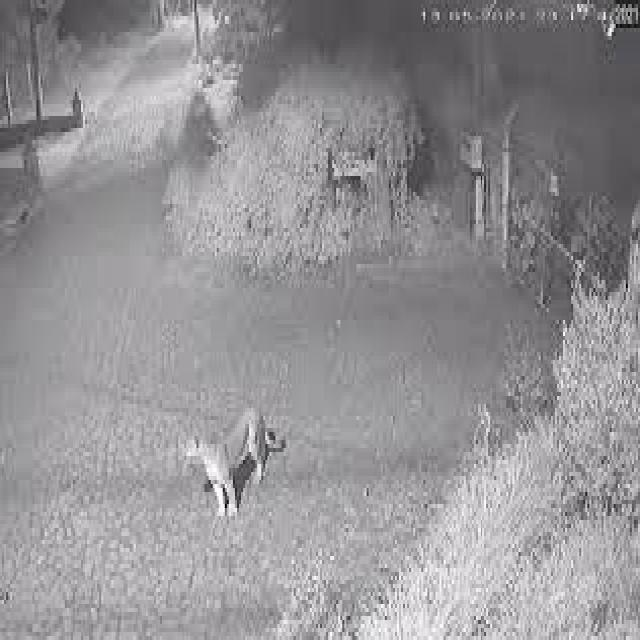Jaguar: (188, 400, 278, 508)
